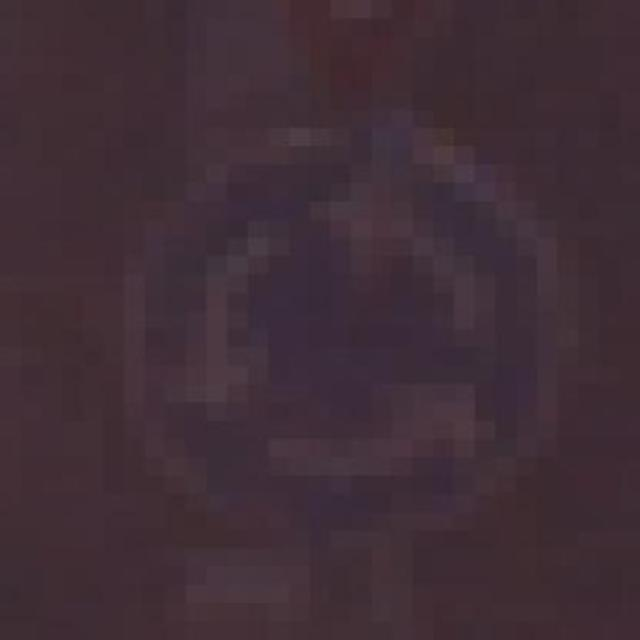Round-About: (82, 91, 578, 567)
